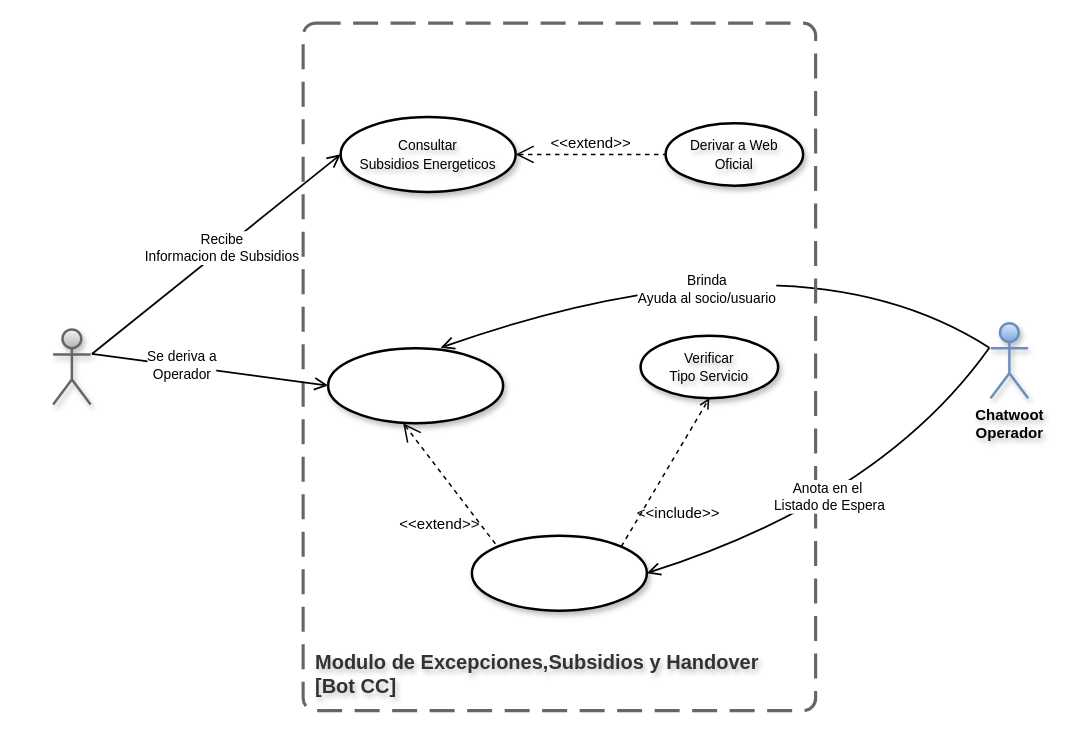
This 1065x734 diagram has some shape labels left out. Each missing label, with the centre of its shape:
"Socio/Usuario" belongs at [72,368].
"Solicitar espera de pago/compromiso" belongs at [560,574].
"Transferir conversacion a Operador" belongs at [416,386].
